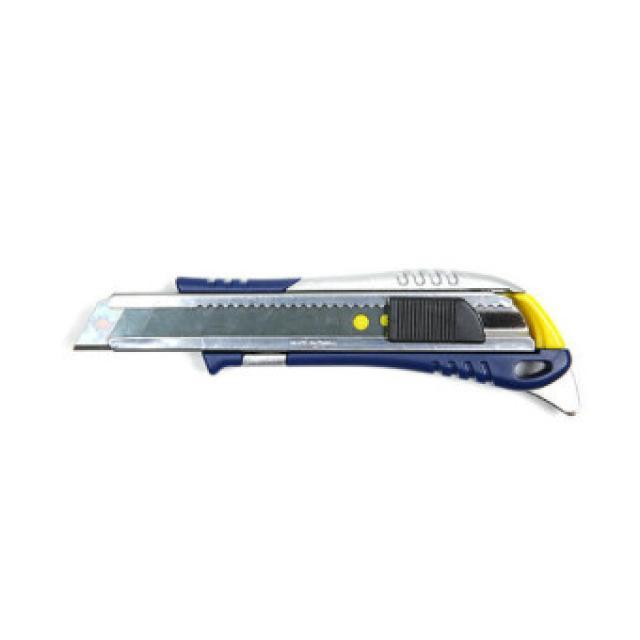cutter: (58, 247, 590, 414)
